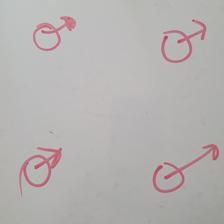origin-of-transfer: (151, 143, 220, 193), (18, 145, 62, 196), (160, 19, 206, 64), (31, 15, 77, 51)
